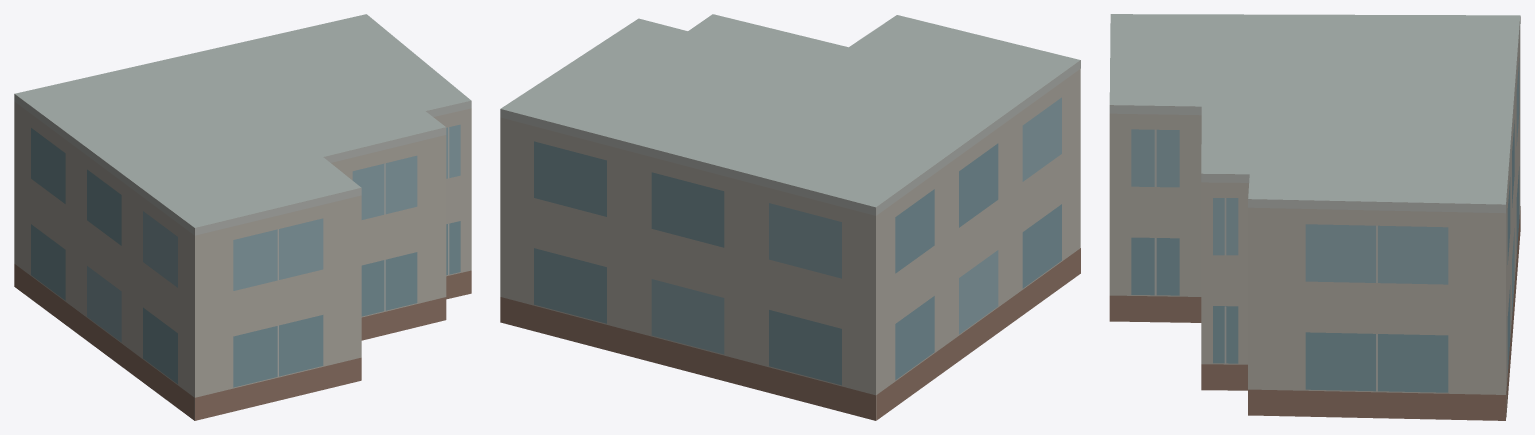
File: survey-upis-32899850.glb
3 views of the same model, side by side, from view 1: azimuth 30°, elevation 25°; view 2: azimuth 150°, elevation 25°; view 3: azimuth 270°, elevation 25° (orthographic). The views are drawn at different scales.
Visible parts, largest first — view 1: survey-upis-32899850.tmp; view 2: survey-upis-32899850.tmp; view 3: survey-upis-32899850.tmp.
Part boxes in pixels (box(x1,y1,x2,y2)): survey-upis-32899850.tmp: box(14, 14, 471, 420); survey-upis-32899850.tmp: box(500, 14, 1080, 420); survey-upis-32899850.tmp: box(1109, 14, 1520, 420).
Bounding box in the file's own units: 11.53 × 6.1 × 10.51.
